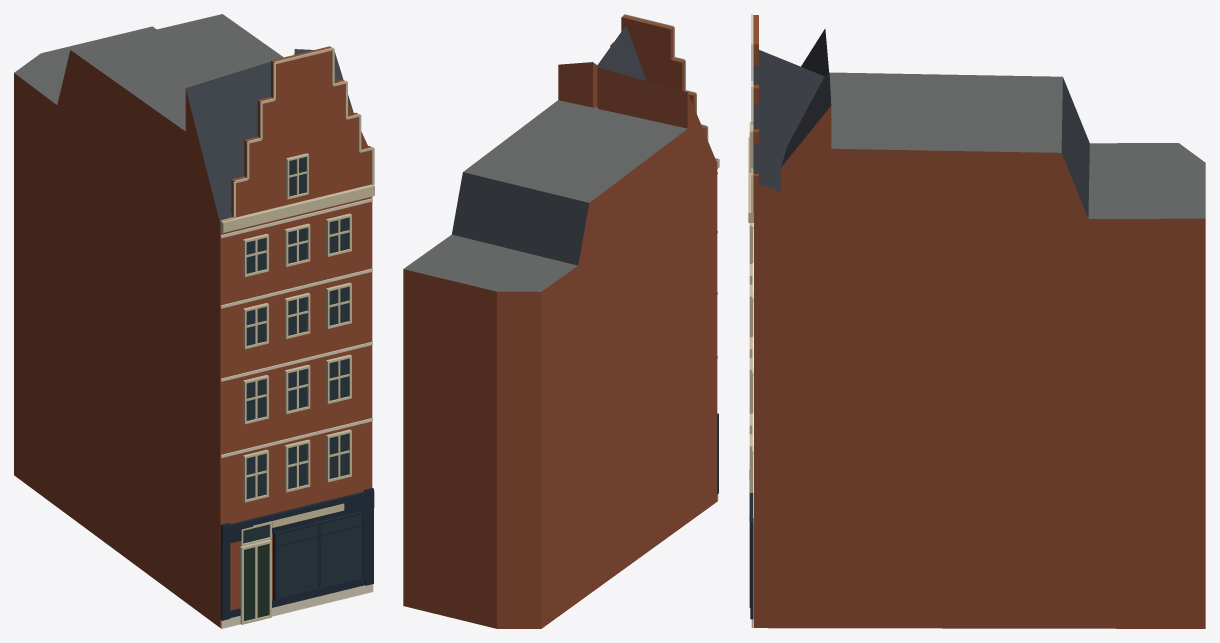
Rendered from recipe-bilder-155418.glb.
3 renders of one model, left to right at view 1: azimuth 30°, elevation 25°; view 2: azimuth 150°, elevation 25°; view 3: azimuth 270°, elevation 25°, orthographic. The views are drawn at different scales.
Visible parts, largest first — view 1: bilder-155418; view 2: bilder-155418; view 3: bilder-155418.
Boxes of the visible parts, left/top/right/bottom form: bilder-155418: left=14, top=14, right=374, bottom=628; bilder-155418: left=403, top=14, right=719, bottom=628; bilder-155418: left=748, top=14, right=1205, bottom=628.
Size of the model in its own units: 5.65 by 19.48 by 14.29.
